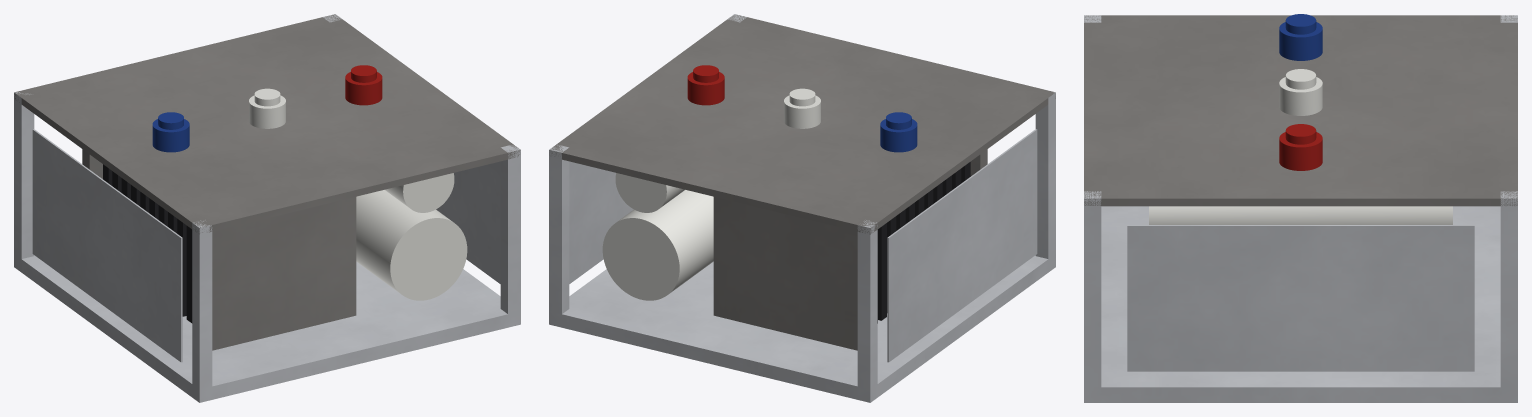
File: rover39_water_electrolyser.glb
3 views of the same model, side by side, from view 1: azimuth 30°, elevation 25°; view 2: azimuth 150°, elevation 25°; view 3: azimuth 270°, elevation 25° (orthographic). The views are drawn at different scales.
Visible parts, largest first — view 1: top_plate, frame, side_panels, stack_endplates, tanks, stack, port_1, port_3, port_2; view 2: top_plate, frame, side_panels, stack_endplates, tanks, stack, port_1, port_3, port_2; view 3: top_plate, side_panels, frame, tanks, port_1, port_2, port_3.
Part boxes in pixels (box(x1,y1,x2,y2)): top_plate: box(14, 14, 520, 234); frame: box(14, 14, 520, 402); side_panels: box(32, 129, 500, 362); stack_endplates: box(82, 149, 356, 350); tanks: box(356, 173, 467, 300); stack: box(103, 164, 192, 323); port_1: box(152, 112, 189, 152); port_3: box(345, 65, 382, 105); port_2: box(249, 88, 285, 128); top_plate: box(550, 15, 1055, 234); frame: box(549, 14, 1055, 402); side_panels: box(569, 129, 1037, 362); stack_endplates: box(713, 149, 987, 350); tanks: box(602, 173, 713, 300); stack: box(877, 162, 970, 323); port_1: box(880, 112, 917, 152); port_3: box(687, 65, 724, 105); port_2: box(784, 88, 820, 128); top_plate: box(1084, 15, 1517, 206); side_panels: box(1127, 225, 1474, 371); frame: box(1084, 15, 1517, 402); tanks: box(1149, 206, 1452, 224); port_1: box(1279, 14, 1322, 60); port_2: box(1279, 69, 1322, 115); port_3: box(1279, 124, 1322, 170).
Bounding box in the file's own units: 1 × 0.6 × 1.
Materials: 6 (2 with a texture image).
